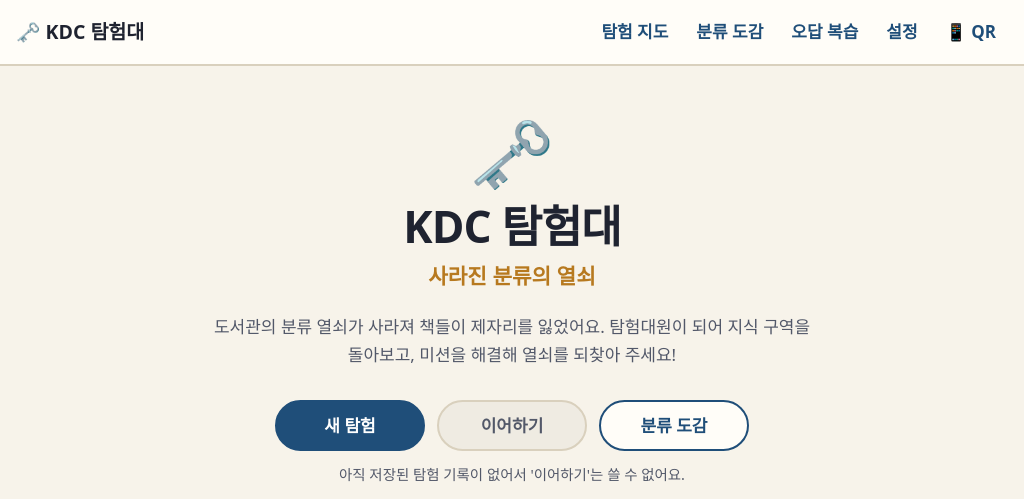
SCR-01 시작 화면 › 새 탐험을 누르면 튜토리얼로 이동한다
Click the button "새 탐험".
click(350, 426)  # box x1=275 y1=400 x2=425 y2=451
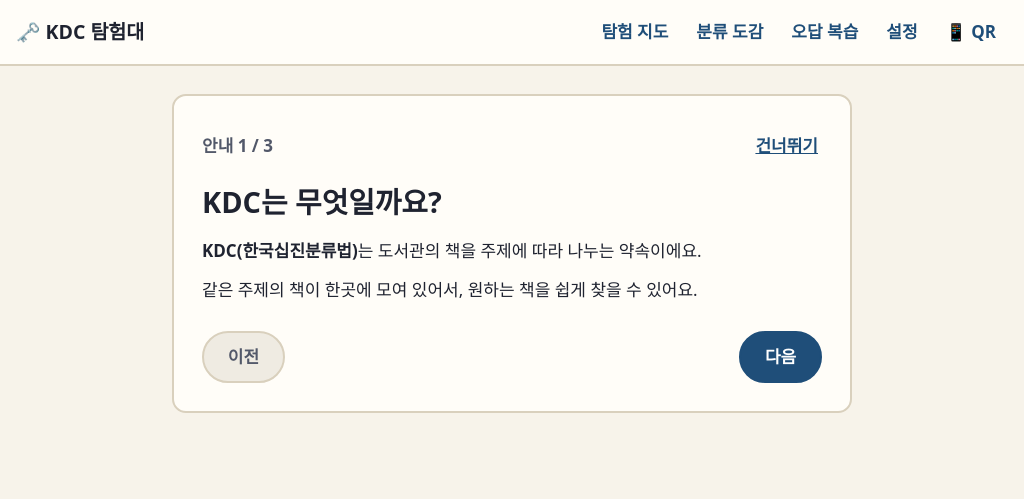
Check: the heading "KDC는 무엇일까요?" is shown, box x1=202 y1=182 x2=442 y2=221
